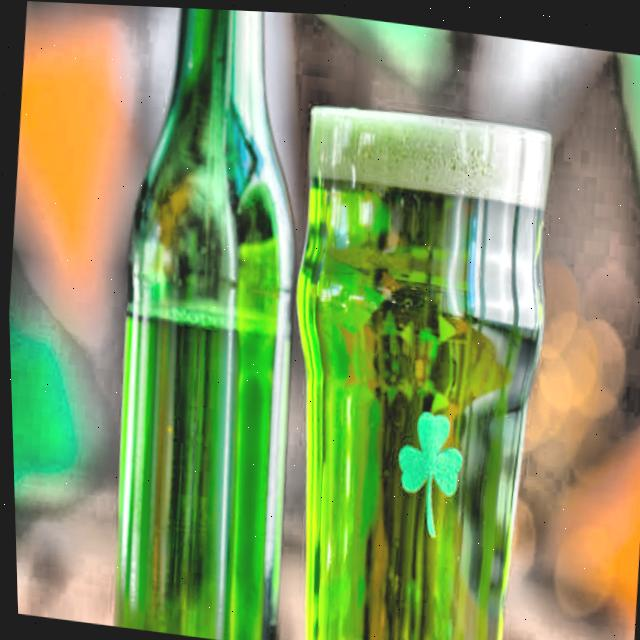glass: (291, 101, 552, 640), (108, 6, 293, 640)
